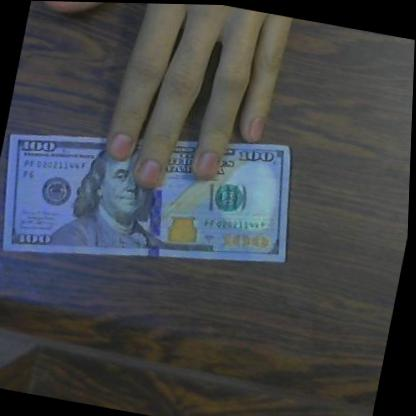one_hundred-front: (0, 89, 312, 299)
